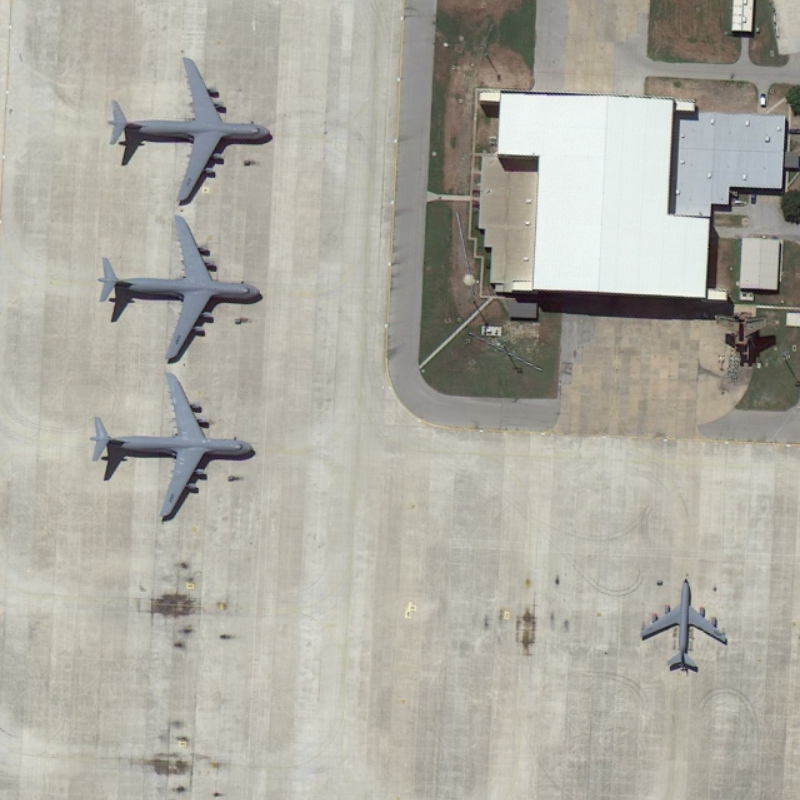A14: (635, 568, 732, 678)
A4: (98, 50, 279, 211), (90, 204, 265, 368), (83, 367, 257, 528)
